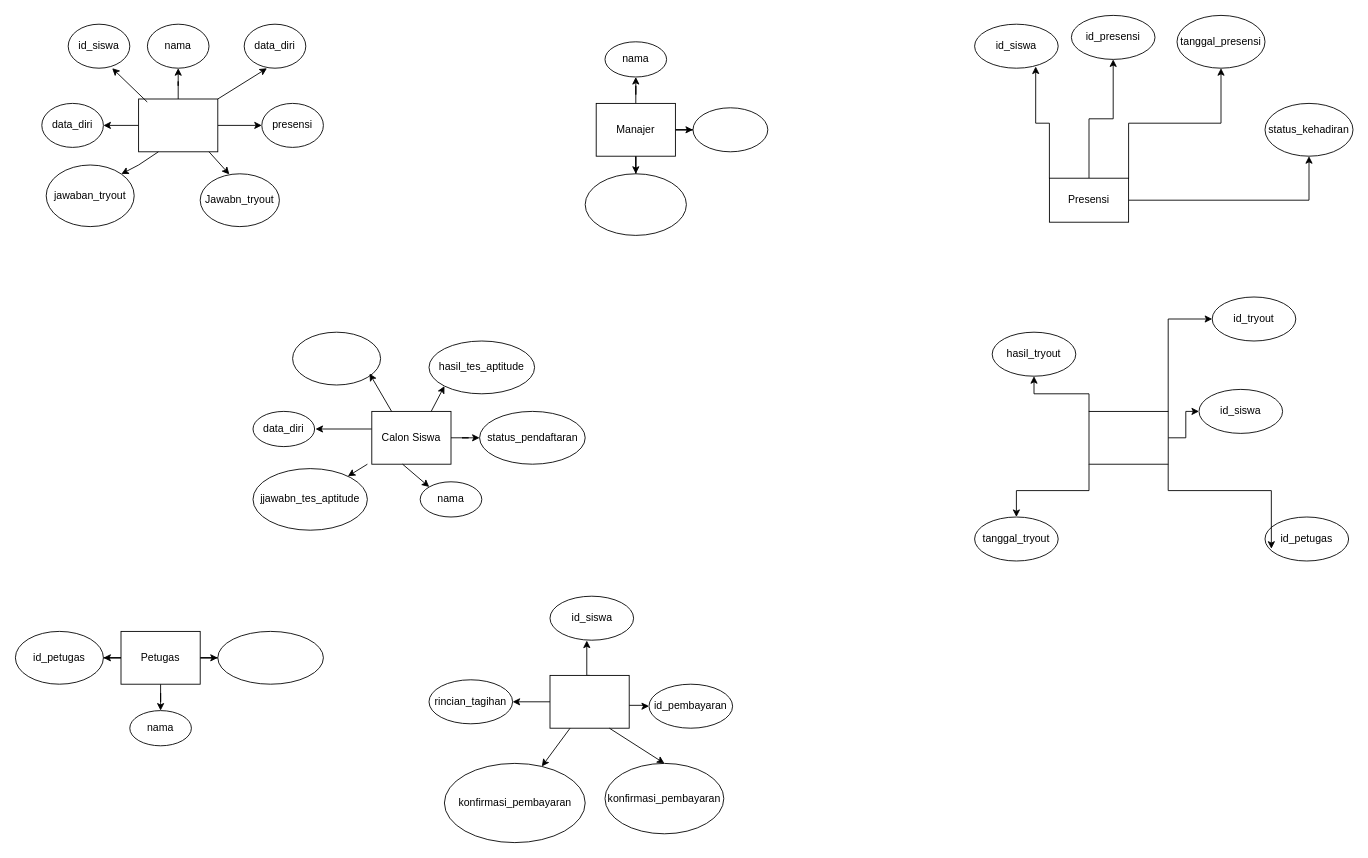
Image size: 1368x858. Some labels were removed from this diagram. Each missing label, with the box of its shape:
id_calon_siswa: (292, 331, 381, 385)
id_manajer: (692, 107, 768, 152)
Pembayaran: (549, 675, 629, 728)
Siswa: (138, 98, 218, 152)
Try Out: (1088, 411, 1168, 464)
userpass_manajer: (584, 173, 686, 235)
userpass_petugas: (217, 631, 323, 684)
